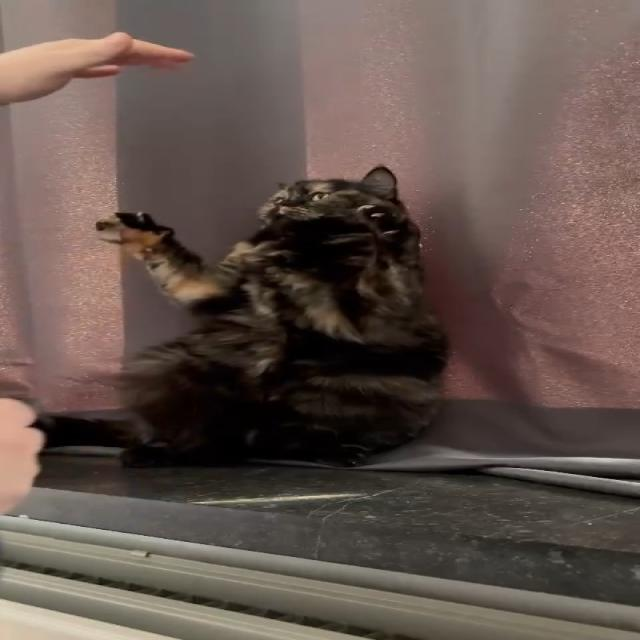authorized: (32, 163, 451, 469)
